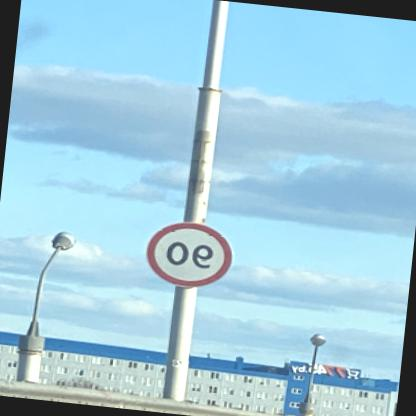speedlimit: (144, 217, 238, 290)
